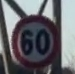limite 60: (5, 7, 62, 72)
